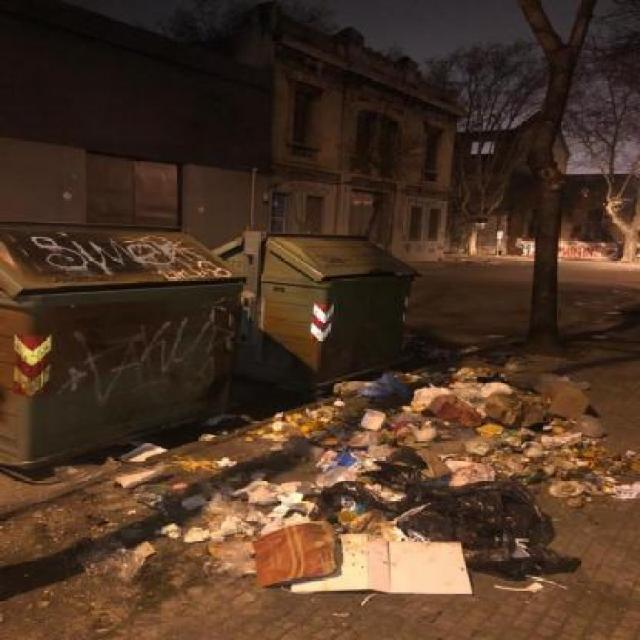garbage: (54, 405, 542, 631), (346, 357, 639, 640)
